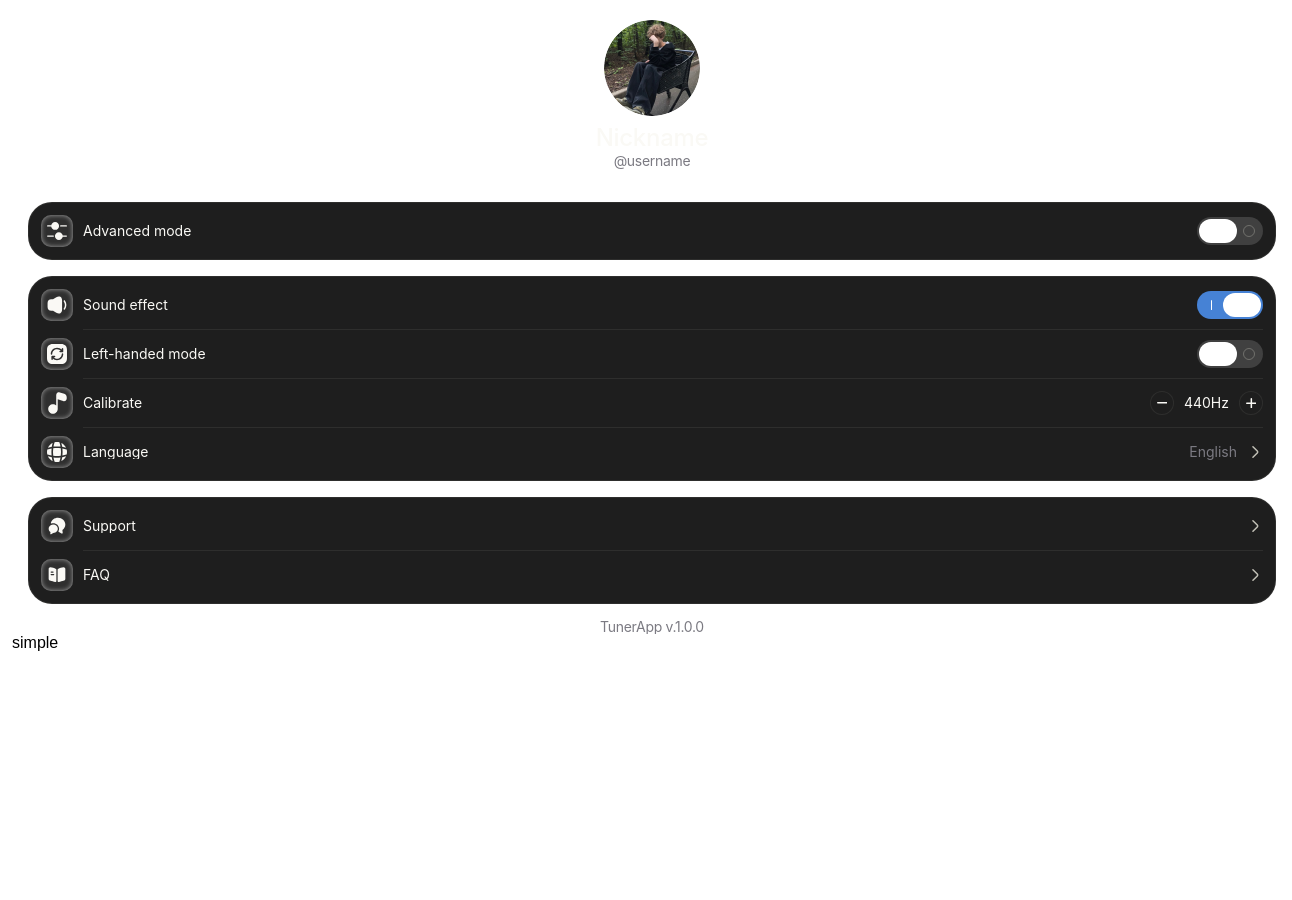
Test: SettingsScreen › toggles preferences.tunerMode via the Advanced mode switch
Expected: the text with test id "tuner-mode" reads "simple", [12,634,58,651]
Step 1. Click the switch named "Advanced mode" → (1230, 231), box [1197,217,1263,245]
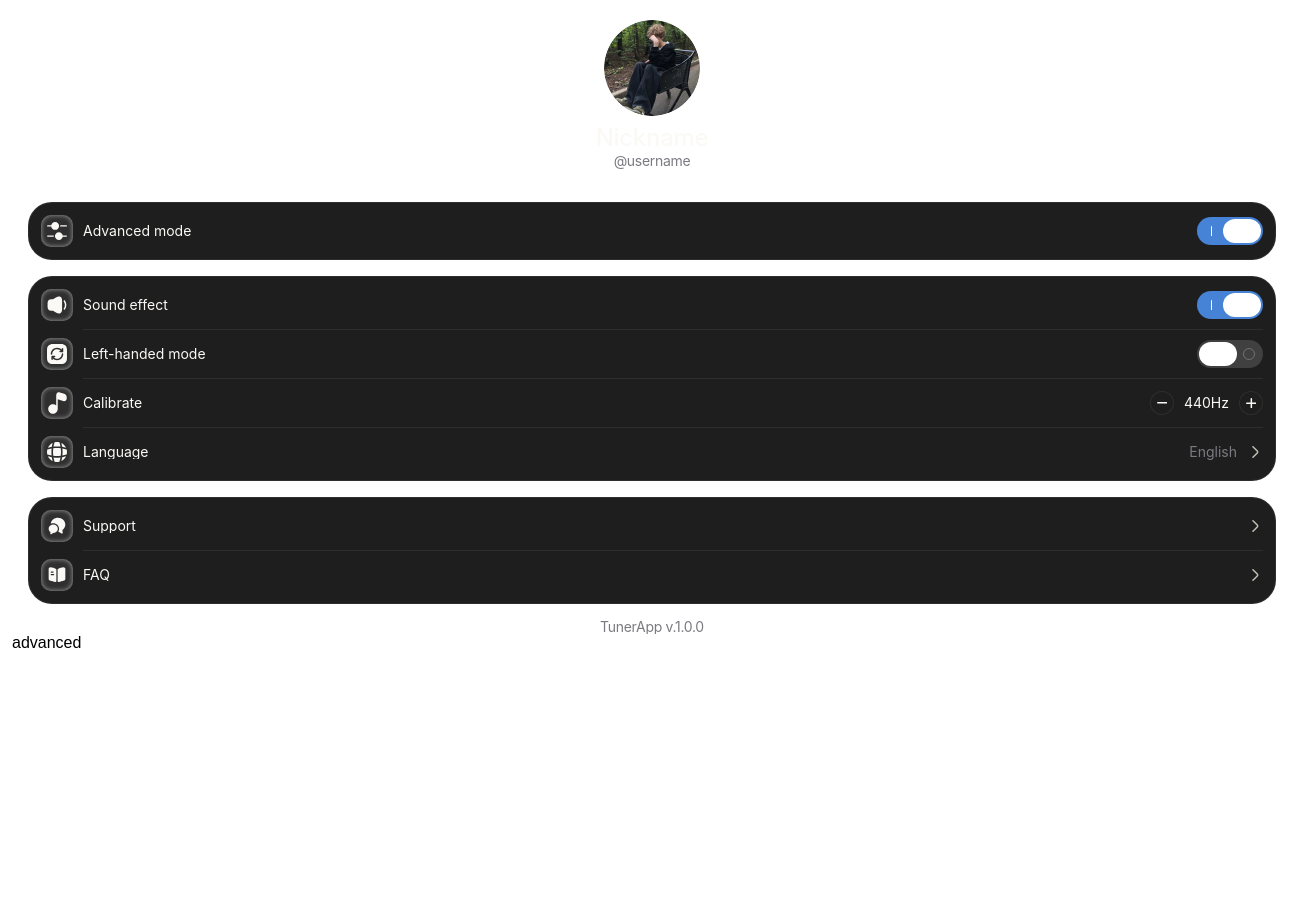
Expected: the text with test id "tuner-mode" reads "advanced", [12,634,81,651]
